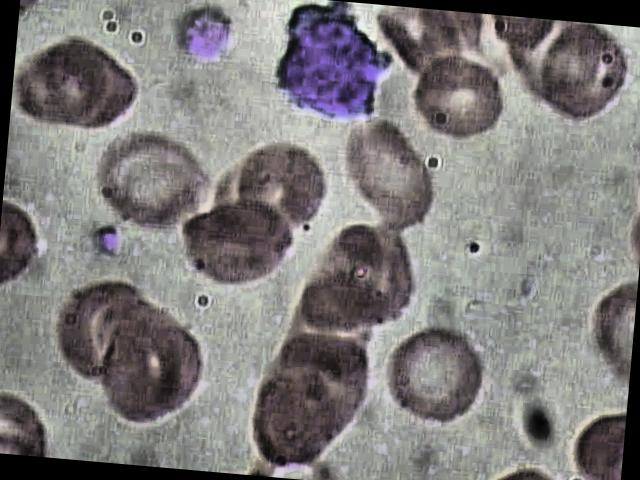Platelets: (175, 0, 236, 72), (80, 216, 123, 260)
RBC: (92, 310, 212, 438), (82, 125, 218, 232), (376, 324, 494, 441), (332, 113, 444, 232), (175, 198, 302, 294), (10, 28, 121, 136), (536, 19, 634, 132), (224, 140, 331, 236), (410, 50, 510, 146)
WBC: (250, 0, 399, 137)
